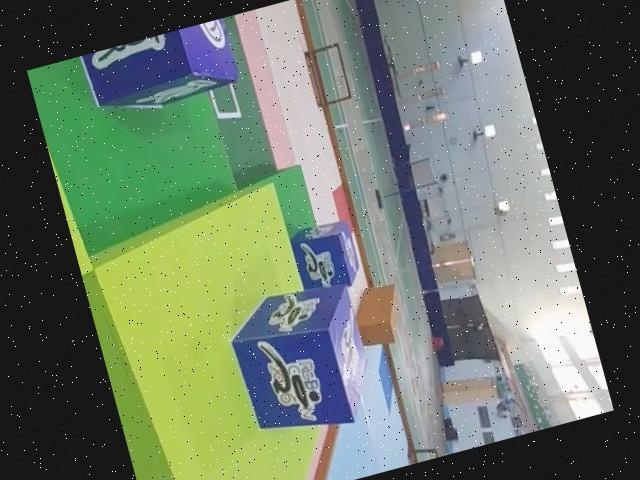R1 Blue: (221, 275, 383, 447), (284, 218, 362, 300)
R2 Fake Blue: (72, 18, 241, 128)
